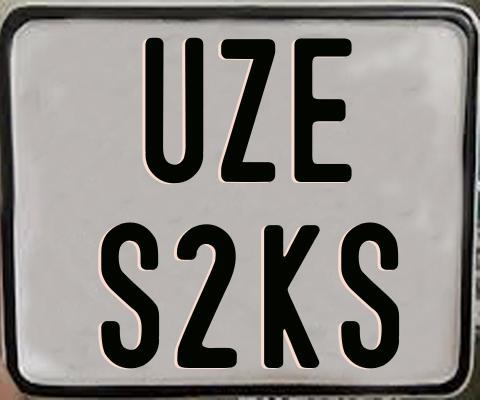2: (174, 221, 238, 367)
E: (294, 35, 353, 180)
K: (264, 222, 320, 368)
S: (100, 219, 161, 367), (341, 220, 399, 369)
U: (145, 38, 204, 186)
Z: (219, 37, 279, 186)
